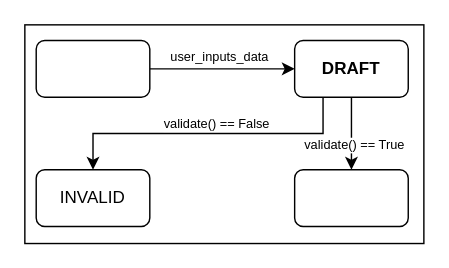
This 449x268 diagram has some shape labels left out. The centre of each missing label's shape, as x and y in pixels:
"EMPTY" belongs at (92,68).
"READY" belongs at (350,197).
